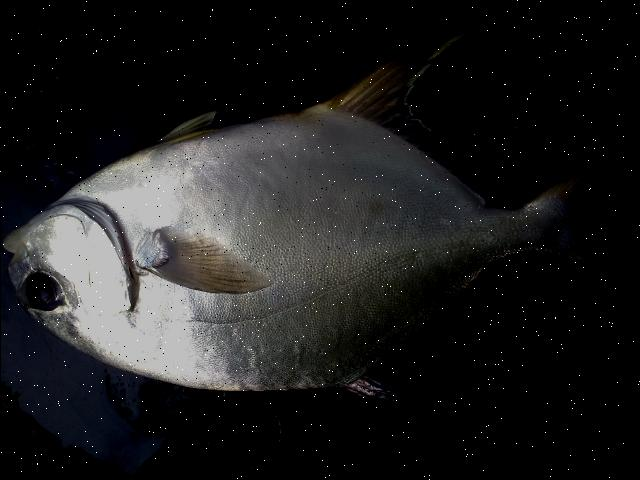Mulut: (1, 206, 44, 292)
Sirip Anal: (391, 107, 513, 222)
Sirip Dada: (115, 200, 298, 326)
Sirip Ekor: (522, 96, 640, 322)
Sirip Perut: (316, 0, 532, 118)
Sirip Punggung: (338, 261, 550, 457)
